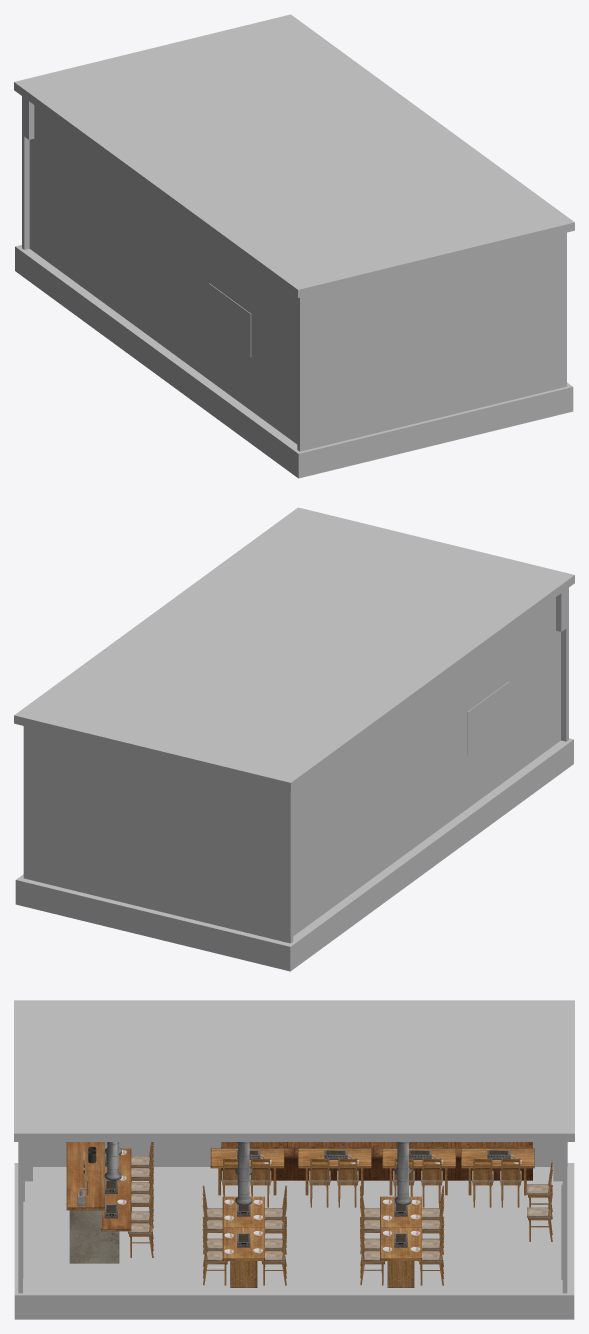
The model's file is Grilled meat shop03.fbx.
3 renders of one model, top to bottom at view 1: azimuth 30°, elevation 25°; view 2: azimuth 150°, elevation 25°; view 3: azimuth 270°, elevation 25°, orthographic.
Parts seen in each view (by area): view 1: Cube.038, Cube.040, Cube.041, Cube.049, Cube.087, Cube.039; view 2: Cube.038, Cube.039, Cube.041, Cube.049, Cube.087, Cube.040; view 3: Cube.038, Cube.049, Cube.041, Cube.075, Cube.074, Cube.077, Cube.063, Cube.073, Cube.211, Cube.229, Cube.067, Cube.195 (+27 smaller).
Part boxes in pixels (x1,y1,x2,y2): Cube.038: [14, 14, 574, 297]; Cube.040: [297, 232, 566, 451]; Cube.041: [29, 105, 297, 444]; Cube.049: [15, 245, 573, 478]; Cube.087: [208, 283, 251, 357]; Cube.039: [22, 96, 29, 249]; Cube.038: [14, 507, 574, 790]; Cube.039: [23, 726, 293, 943]; Cube.041: [281, 597, 560, 941]; Cube.049: [15, 738, 573, 971]; Cube.087: [467, 681, 509, 754]; Cube.040: [561, 588, 568, 741]; Cube.038: [14, 1000, 574, 1141]; Cube.049: [14, 1163, 574, 1319]; Cube.041: [33, 1142, 567, 1166]; Cube.075: [221, 1147, 532, 1180]; Cube.074: [66, 1142, 104, 1210]; Cube.077: [69, 1210, 119, 1263]; Cube.063: [221, 1142, 532, 1147]; Cube.073: [101, 1148, 131, 1231]; Cube.211: [222, 1227, 264, 1260]; Cube.229: [380, 1227, 421, 1260]; Cube.067: [298, 1148, 371, 1168]; Cube.195: [461, 1148, 534, 1168].
Bounding box in the file's own units: 297 × 194 × 528.
